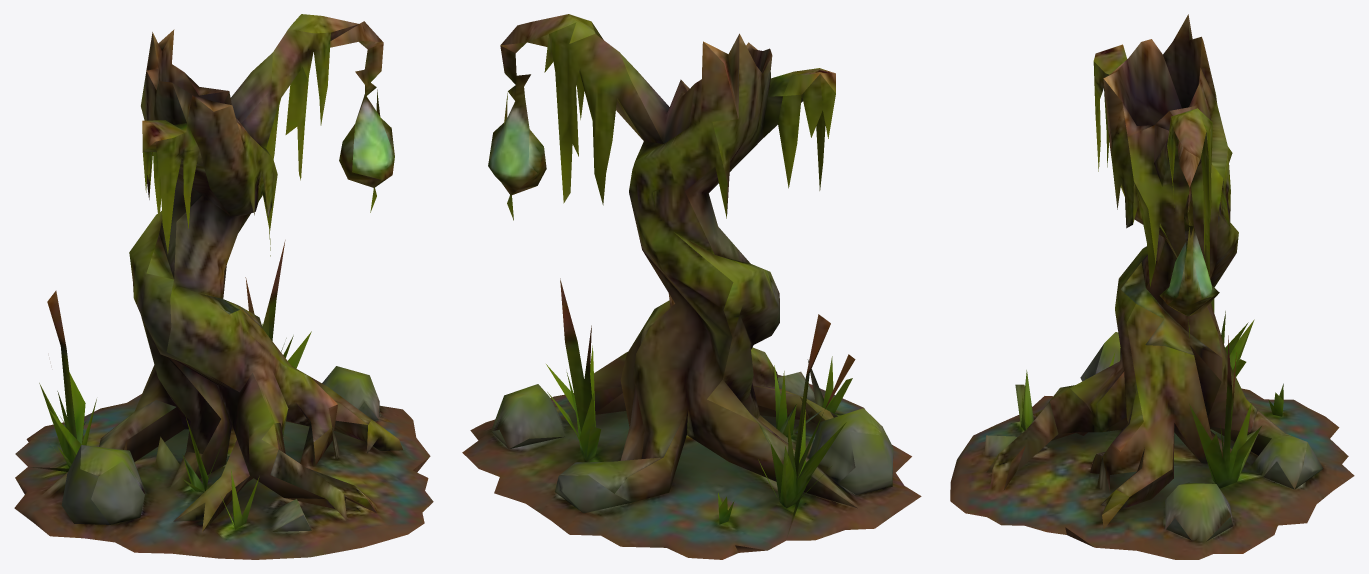
File: d_marais_repere.glb
3 renders of one model, left to right at view 1: azimuth 30°, elevation 25°; view 2: azimuth 150°, elevation 25°; view 3: azimuth 270°, elevation 25°, orthographic. The views are drawn at different scales.
Visible parts, largest first — view 1: geometry_0; view 2: geometry_0; view 3: geometry_0.
Part boxes in pixels (bbox=[...]): geometry_0: bbox=[14, 14, 433, 559]; geometry_0: bbox=[462, 14, 921, 559]; geometry_0: bbox=[950, 14, 1354, 559].
Bounding box in the file's own units: 0.9279 × 0.9999 × 0.8559.
Materials: 1 (1 with a texture image).
